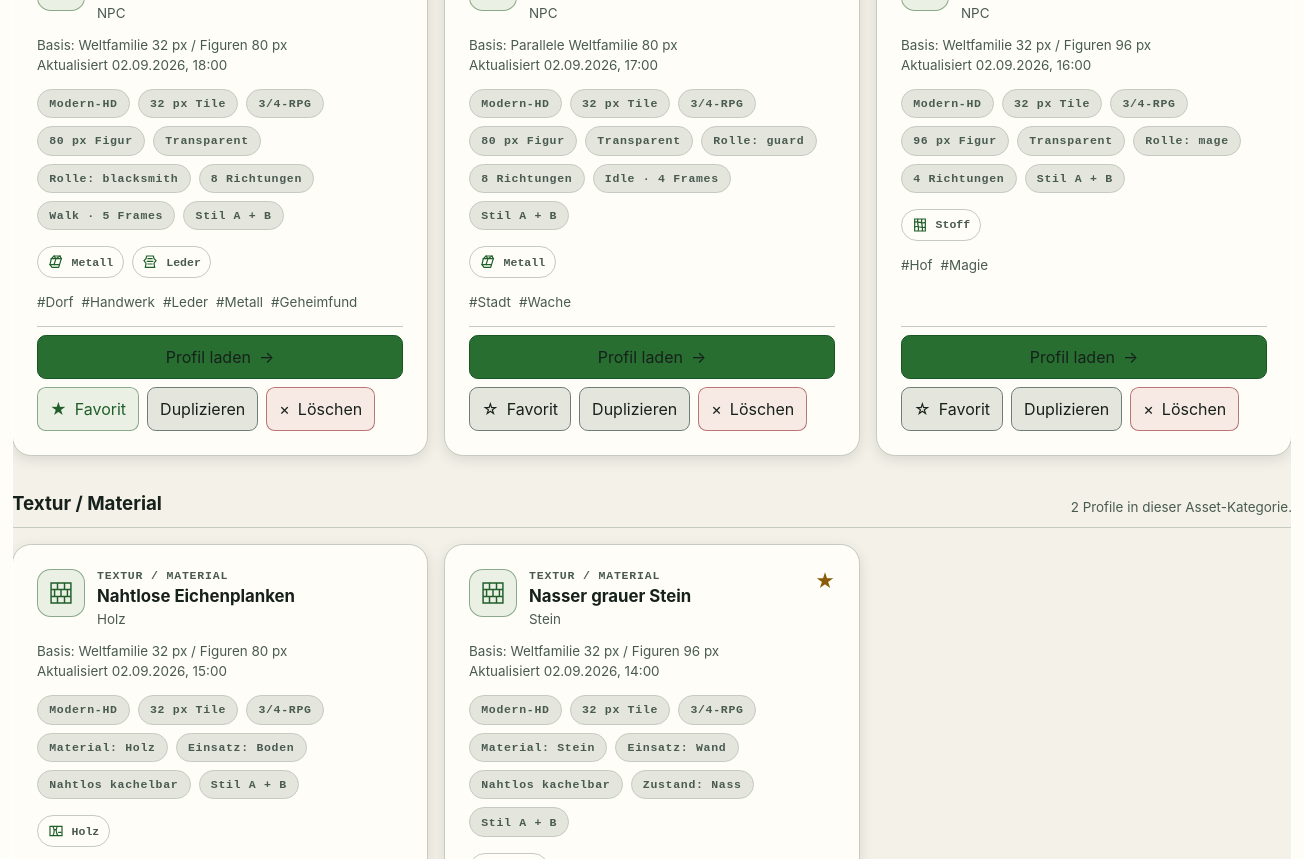
Scenario: profile library user flows › toggles a favorite without navigating and persists the complete library
(page scrolled)
Step 1. Click the button with aria-label "Profil „Wache am Nordtor“ als Favorit markieren" → [520, 409], box [469, 387, 571, 431]
(page scrolled)
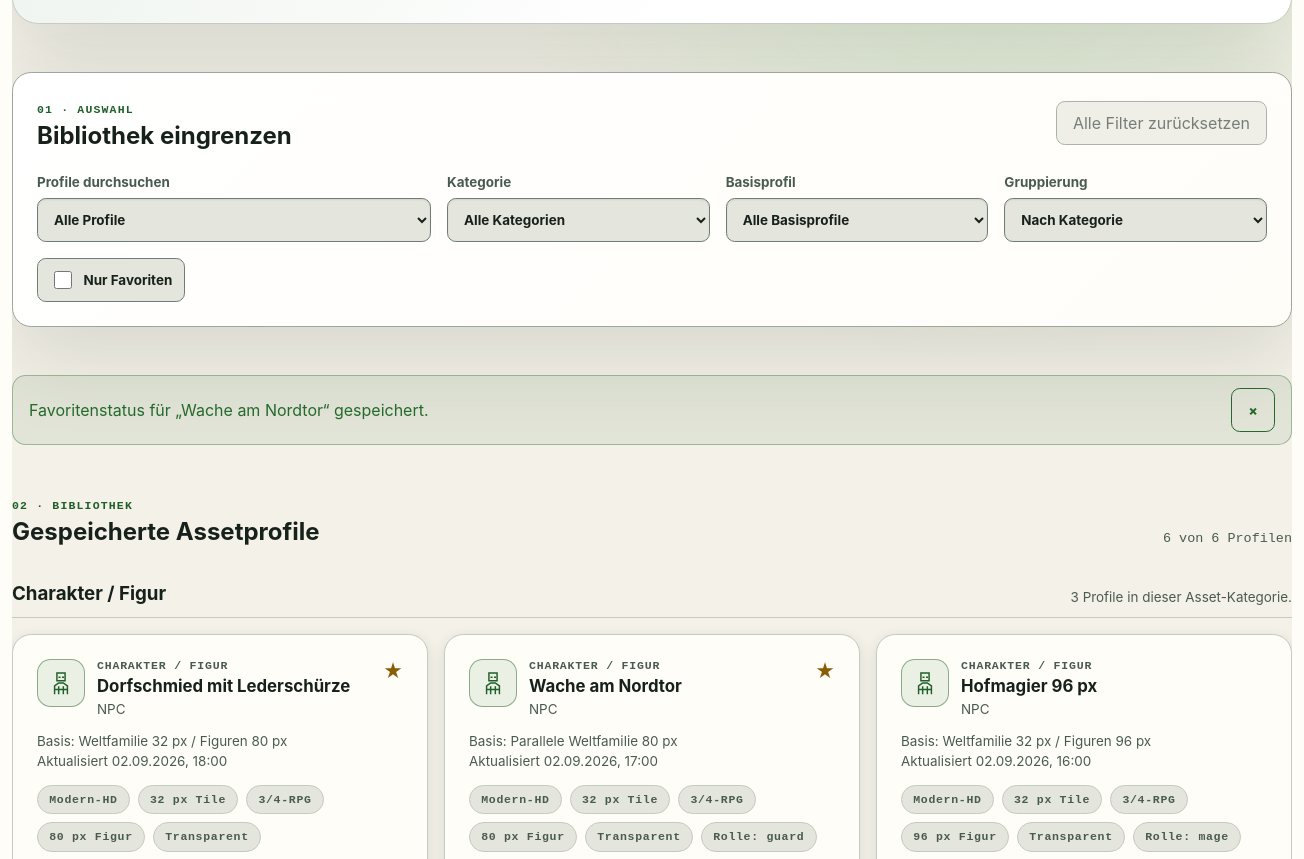
Expected: the text "Favoritenstatus für „Wache am Nordtor“ gespeichert." is shown, [29, 400, 429, 420]
